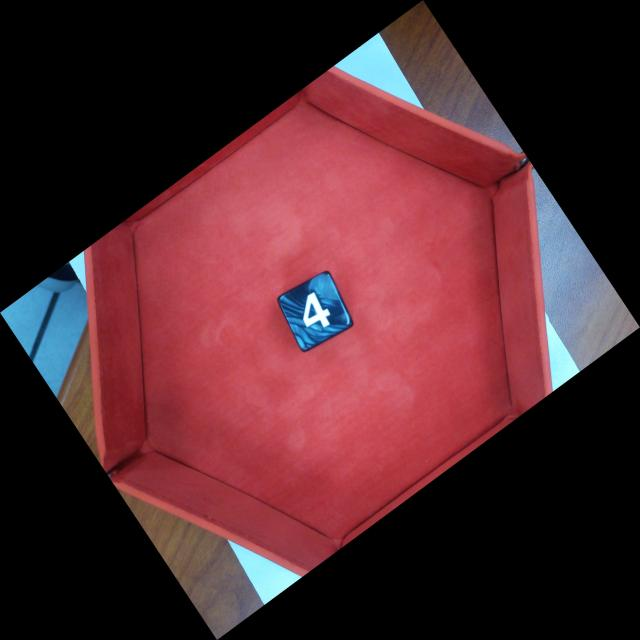dice: (275, 268, 358, 357)
